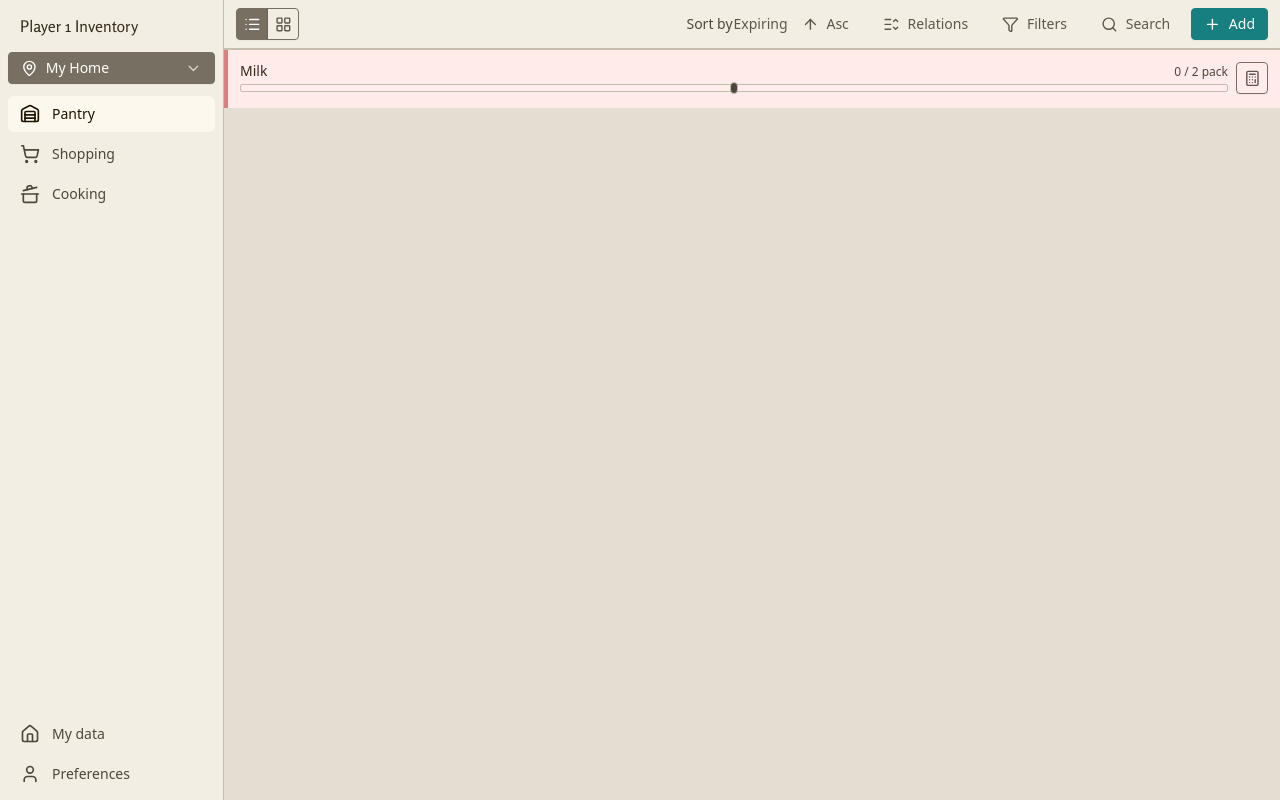
Test case: Home page filtering integration › user sees a search no-match message, not the filter one, when the pantry HAS items and the search matches none of them
expect the heading "Milk" is shown: met, box [240, 62, 267, 80]
Click the button with aria-label "toggle search" at (1135, 24), box [1088, 8, 1183, 40]
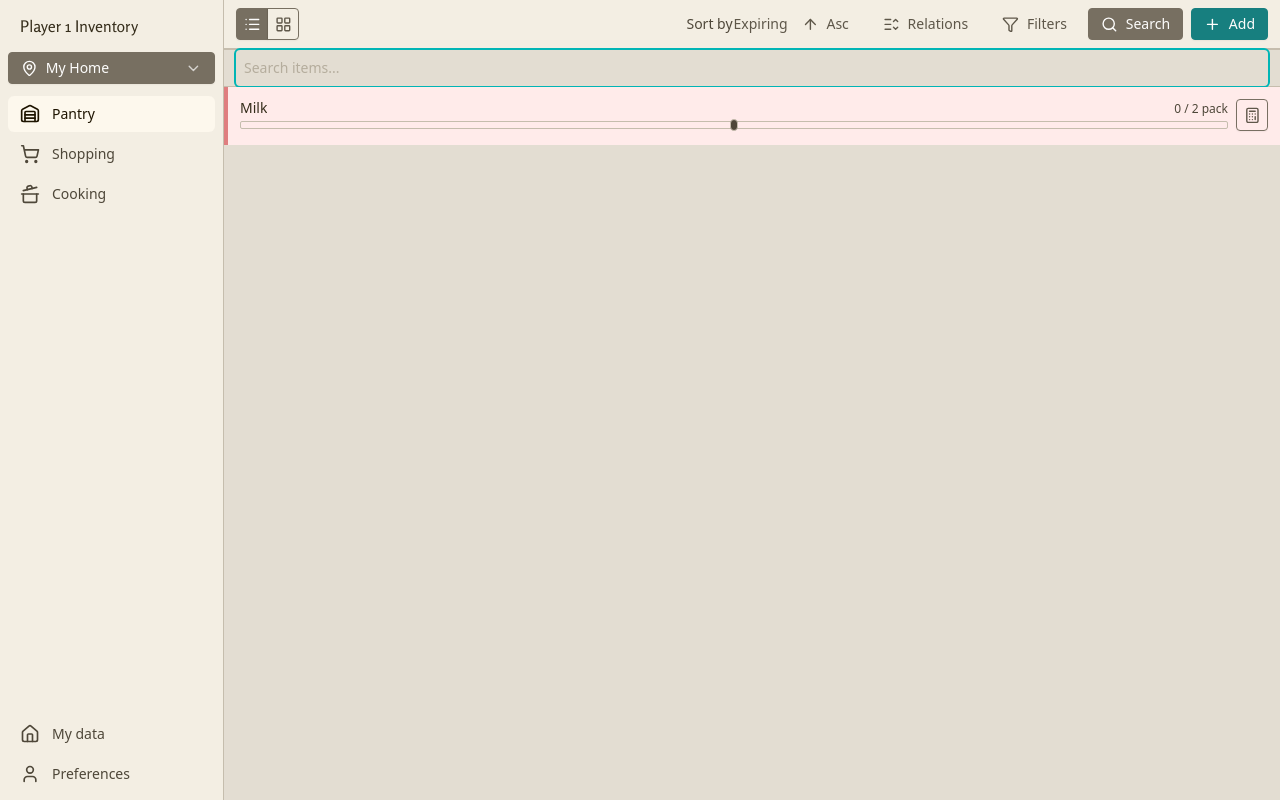
Type "zzz" into the field with placeholder "Search items..." at (752, 68), box [236, 50, 1268, 86]
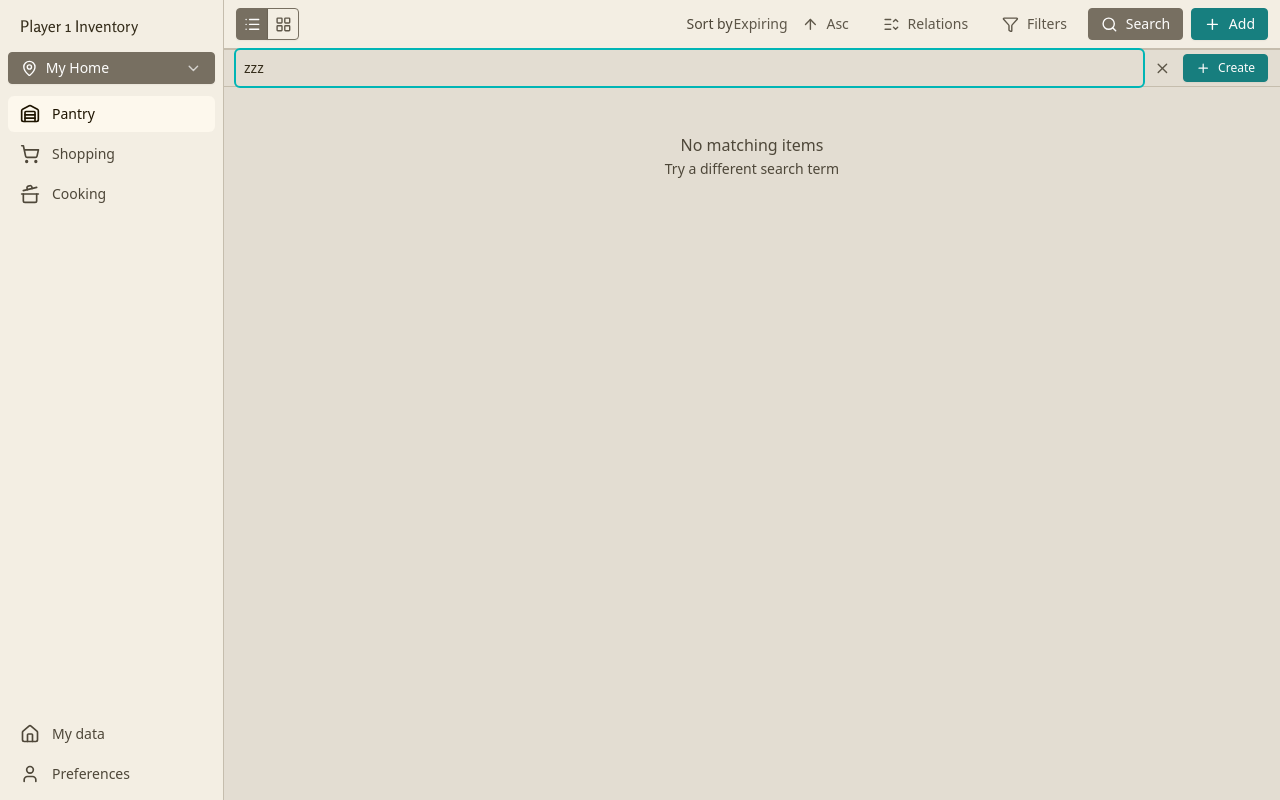
expect the link "Milk" is gone: met
expect the text "No matching items" is shown: met, box [681, 134, 824, 156]
expect the text "Try a different search term" is shown: met, box [665, 159, 839, 178]
